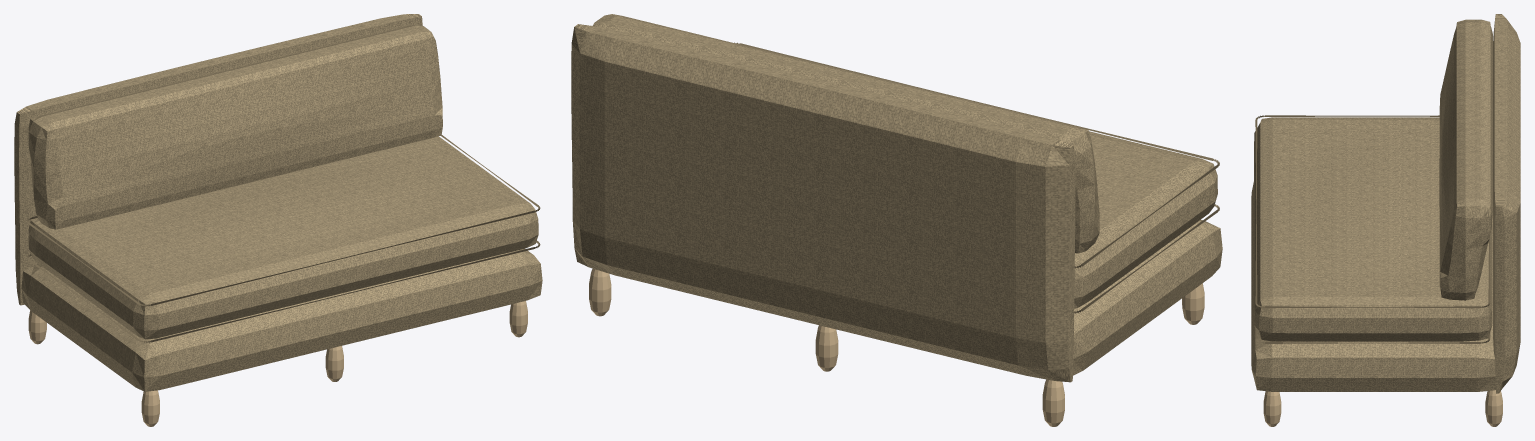
Rendered from SAB-LOV-std.glb.
3 views of the same model, side by side, from view 1: azimuth 30°, elevation 25°; view 2: azimuth 150°, elevation 25°; view 3: azimuth 270°, elevation 25° (orthographic). The views are drawn at different scales.
Parts seen in each view (by area): view 1: seat:fabric:eyJwcmVzZXQiOiJib3VjbGUiLCJ3YXJwIjoic2FuZCIsIndl, inside-back:fabric:eyJwcmVzZXQiOiJib3VjbGUiLCJ3YXJwIjoic2FuZ, deck:fabric:eyJwcmVzZXQiOiJib3VjbGUiLCJ3YXJwIjoic2FuZCIsIndl, back-pad:fabric:eyJwcmVzZXQiOiJib3VjbGUiLCJ3YXJwIjoic2FuZCIs, seat:piping:pbr, leg-fl:pbr, leg-fr:pbr, leg-cf:pbr; view 2: back-pad:fabric:eyJwcmVzZXQiOiJib3VjbGUiLCJ3YXJwIjoic2FuZCIs, seat:fabric:eyJwcmVzZXQiOiJib3VjbGUiLCJ3YXJwIjoic2FuZCIsIndl, inside-back:fabric:eyJwcmVzZXQiOiJib3VjbGUiLCJ3YXJwIjoic2FuZ, deck:fabric:eyJwcmVzZXQiOiJib3VjbGUiLCJ3YXJwIjoic2FuZCIsIndl, seat:piping:pbr, leg-bl:pbr, leg-br:pbr, leg-cb:pbr, leg-fl:pbr; view 3: seat:fabric:eyJwcmVzZXQiOiJib3VjbGUiLCJ3YXJwIjoic2FuZCIsIndl, inside-back:fabric:eyJwcmVzZXQiOiJib3VjbGUiLCJ3YXJwIjoic2FuZ, deck:fabric:eyJwcmVzZXQiOiJib3VjbGUiLCJ3YXJwIjoic2FuZCIsIndl, back-pad:fabric:eyJwcmVzZXQiOiJib3VjbGUiLCJ3YXJwIjoic2FuZCIs, seat:piping:pbr, leg-fr:pbr, leg-br:pbr.
Boxes of the visible parts, box(x1,y1,x2,y2) form: seat:fabric:eyJwcmVzZXQiOiJib3VjbGUiLCJ3YXJwIjoic2FuZCIsIndl: box(28, 136, 538, 339); inside-back:fabric:eyJwcmVzZXQiOiJib3VjbGUiLCJ3YXJwIjoic2FuZ: box(28, 24, 442, 229); deck:fabric:eyJwcmVzZXQiOiJib3VjbGUiLCJ3YXJwIjoic2FuZCIsIndl: box(21, 248, 542, 391); back-pad:fabric:eyJwcmVzZXQiOiJib3VjbGUiLCJ3YXJwIjoic2FuZCIs: box(14, 14, 422, 305); seat:piping:pbr: box(27, 135, 540, 342); leg-fl:pbr: box(141, 390, 159, 426); leg-fr:pbr: box(509, 301, 527, 337); leg-cf:pbr: box(325, 346, 343, 381); back-pad:fabric:eyJwcmVzZXQiOiJib3VjbGUiLCJ3YXJwIjoic2FuZCIs: box(571, 24, 1075, 382); seat:fabric:eyJwcmVzZXQiOiJib3VjbGUiLCJ3YXJwIjoic2FuZCIsIndl: box(1074, 131, 1217, 308); inside-back:fabric:eyJwcmVzZXQiOiJib3VjbGUiLCJ3YXJwIjoic2FuZ: box(592, 14, 1099, 253); deck:fabric:eyJwcmVzZXQiOiJib3VjbGUiLCJ3YXJwIjoic2FuZCIsIndl: box(1073, 219, 1222, 375); seat:piping:pbr: box(734, 42, 1219, 313); leg-bl:pbr: box(1042, 379, 1064, 426); leg-br:pbr: box(589, 268, 611, 316); leg-cb:pbr: box(815, 325, 838, 371); leg-fl:pbr: box(1182, 283, 1204, 324); seat:fabric:eyJwcmVzZXQiOiJib3VjbGUiLCJ3YXJwIjoic2FuZCIsIndl: box(1254, 117, 1492, 341); inside-back:fabric:eyJwcmVzZXQiOiJib3VjbGUiLCJ3YXJwIjoic2FuZ: box(1439, 19, 1492, 300); deck:fabric:eyJwcmVzZXQiOiJib3VjbGUiLCJ3YXJwIjoic2FuZCIsIndl: box(1251, 182, 1495, 391); back-pad:fabric:eyJwcmVzZXQiOiJib3VjbGUiLCJ3YXJwIjoic2FuZCIs: box(1493, 14, 1520, 393); seat:piping:pbr: box(1255, 115, 1490, 343); leg-fr:pbr: box(1263, 391, 1281, 426); leg-br:pbr: box(1485, 390, 1502, 426).
Size of the model in its own units: 1.45 by 0.8 by 0.85.
Materials: 11 (4 with a texture image).
